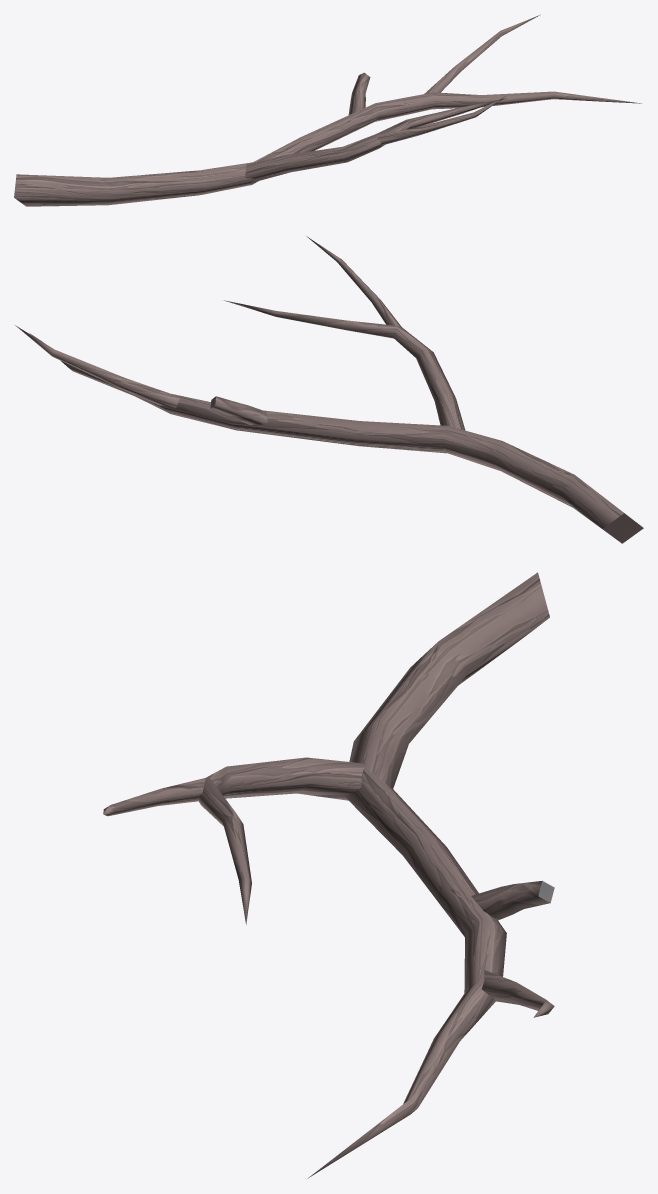
The picture shows the model from 3 angles, top to bottom: view 1: azimuth 30°, elevation 25°; view 2: azimuth 150°, elevation 25°; view 3: azimuth 270°, elevation 25°; orthographic projection. The views are drawn at different scales.
Visible parts, largest first — view 1: submesh_0; view 2: submesh_0; view 3: submesh_0.
Boxes of the visible parts, box(x1,y1,x2,y2) form: submesh_0: box(14, 14, 641, 206); submesh_0: box(15, 236, 643, 543); submesh_0: box(103, 572, 554, 1178).
Size of the model in its own units: 1.48 by 0.2348 by 0.4991.
1 material, 1 textured.
